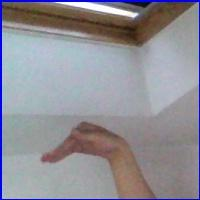del: (41, 121, 130, 174)
